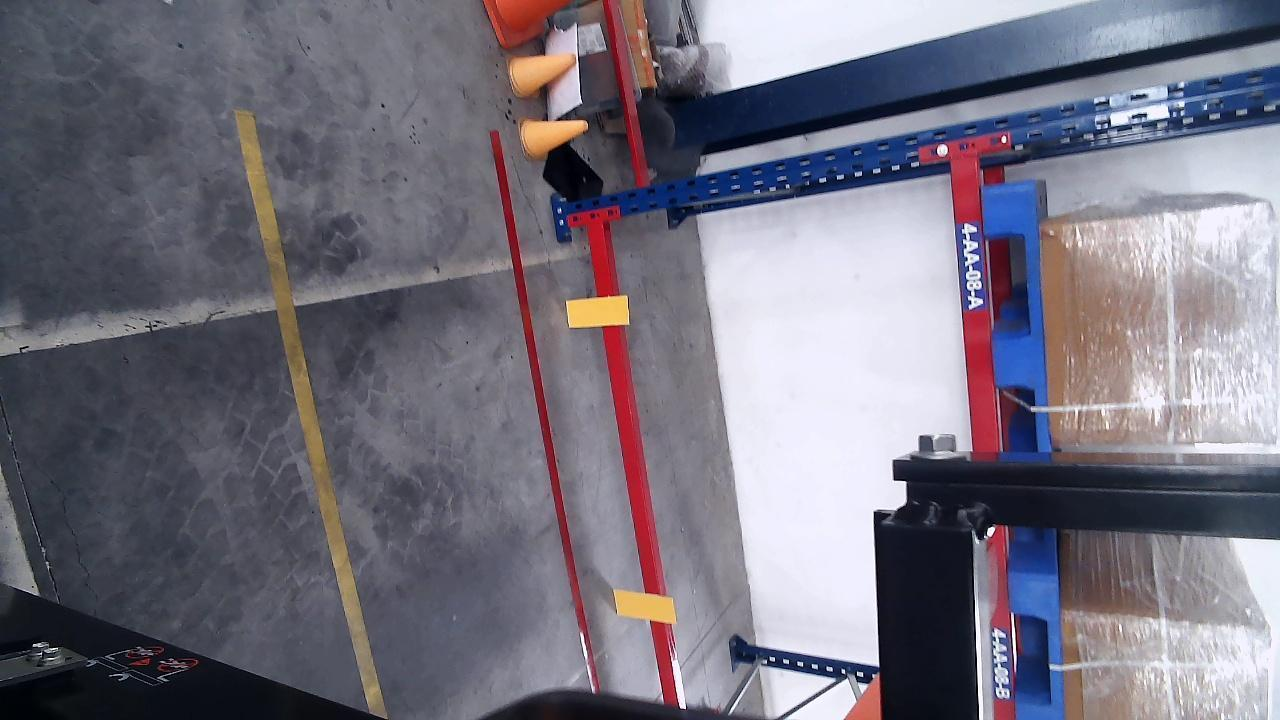red_line: (487, 129, 601, 691)
yellow_line: (233, 108, 385, 717)
